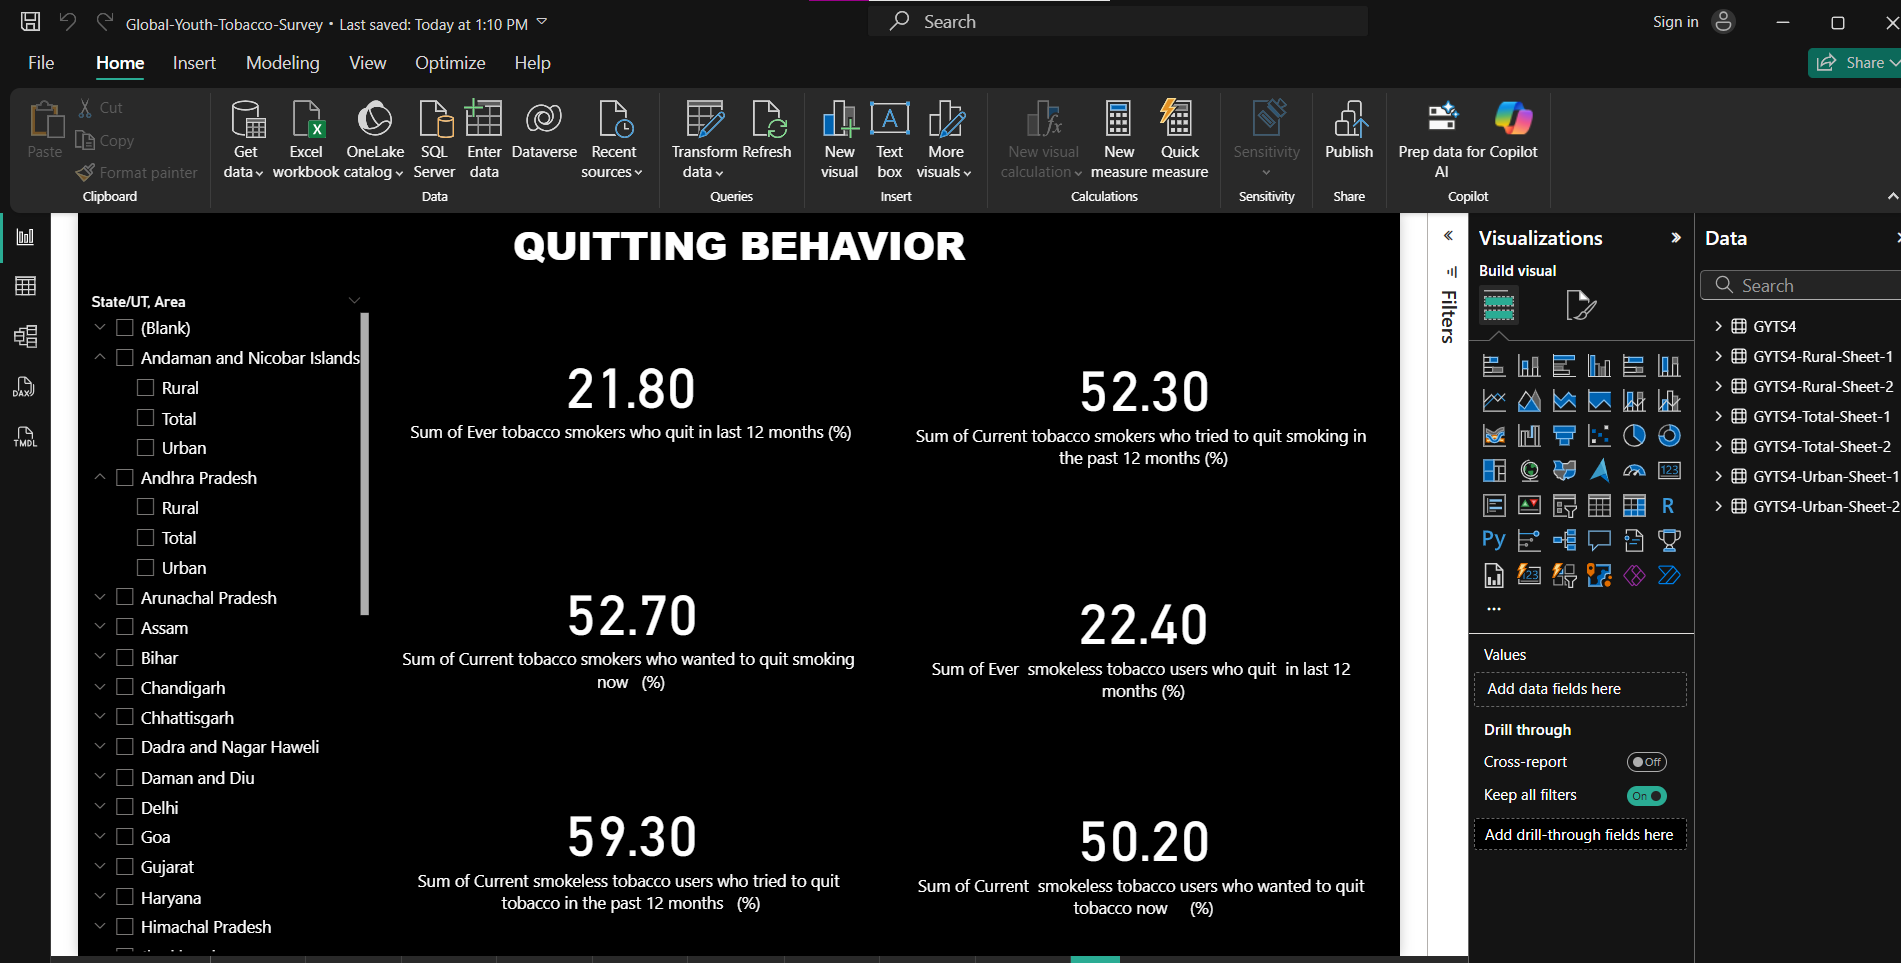

This screenshot's page, from the dashboard's own definition file:
{"tool":"powerbi","page":{"name":"Page 6","canvas":[1280,720],"ordinal":5},"visuals":[{"type":"textbox","box":[0,0,1280.3,72.1],"z":0},{"type":"slicer","fields":{"Values":["GYTS4-Urban-Sheet-1.State/UT","GYTS4.Area"]},"box":[0,72.6,286.9,647.6],"z":1000},{"type":"card","fields":{"Values":["Sum(GYTS4.Ever tobacco smokers who quit in last 12 months (%))"]},"box":[286.9,59.3,497.5,228.8],"z":2000},{"type":"card","fields":{"Values":["Sum(GYTS4.Ever  smokeless tobacco users who quit  in last 12 months (%))"]},"box":[784.4,288.1,495.1,228.8],"z":3000},{"type":"card","fields":{"Values":["Sum(GYTS4.Current tobacco smokers who wanted to quit smoking now   (%))"]},"box":[286.9,282,497.5,222.7],"z":4000},{"type":"card","fields":{"Values":["Sum(GYTS4.Current tobacco smokers who tried to quit smoking in the past 12 months (%))"]},"box":[784.4,65.4,495.1,222.7],"z":5000},{"type":"card","fields":{"Values":["Sum(GYTS4.Current smokeless tobacco users who tried to quit tobacco in the past 12 months   (%))"]},"box":[286.9,495.1,497.5,225.2],"z":6000},{"type":"card","fields":{"Values":["Sum(GYTS4.Current  smokeless tobacco users who wanted to quit tobacco now     (%))"]},"box":[784.4,504.8,495.1,215.5],"z":7000}]}

Visuals, with their boxes on the page's 1280x720 design canvas (x1, y1, x2, y2). These are canvas units, not pixel positions in the 1901x963 screenshot, which may show the page scaled, cropped or inside an application window:
textbox: 0/0/1280/72
slicer - GYTS4-Urban-Sheet-1.State/UT x GYTS4.Area: 0/73/287/720
card - Sum(GYTS4.Ever tobacco smokers who quit in last 12 months (%)): 287/59/784/288
card - Sum(GYTS4.Ever  smokeless tobacco users who quit  in last 12 months (%)): 784/288/1280/517
card - Sum(GYTS4.Current tobacco smokers who wanted to quit smoking now   (%)): 287/282/784/505
card - Sum(GYTS4.Current tobacco smokers who tried to quit smoking in the past 12 months (%)): 784/65/1280/288
card - Sum(GYTS4.Current smokeless tobacco users who tried to quit tobacco in the past 12 months   (%)): 287/495/784/720
card - Sum(GYTS4.Current  smokeless tobacco users who wanted to quit tobacco now     (%)): 784/505/1280/720
